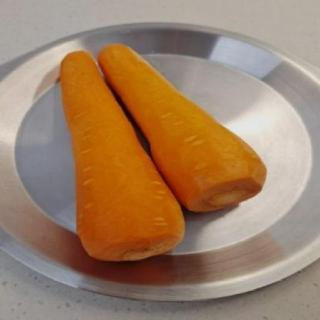carrot: (103, 40, 270, 214), (55, 50, 183, 264)
